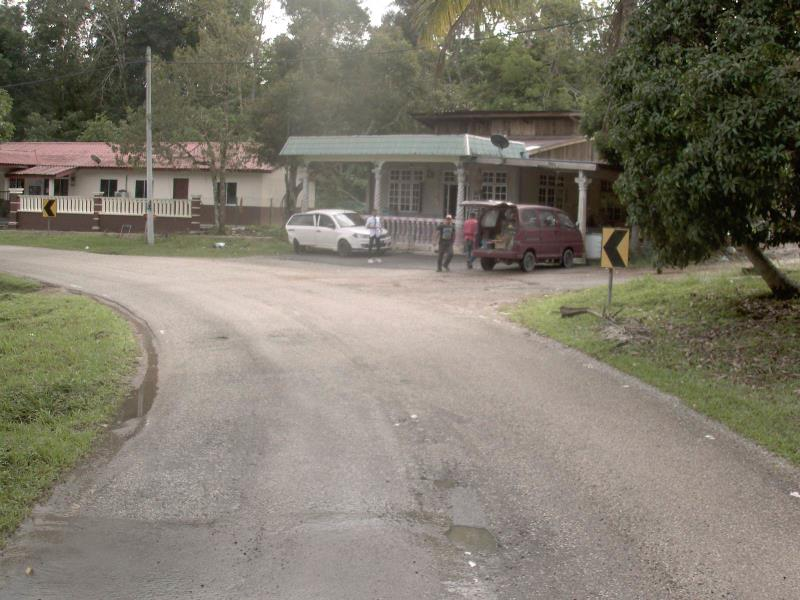traffic_sign: (590, 218, 640, 279)
